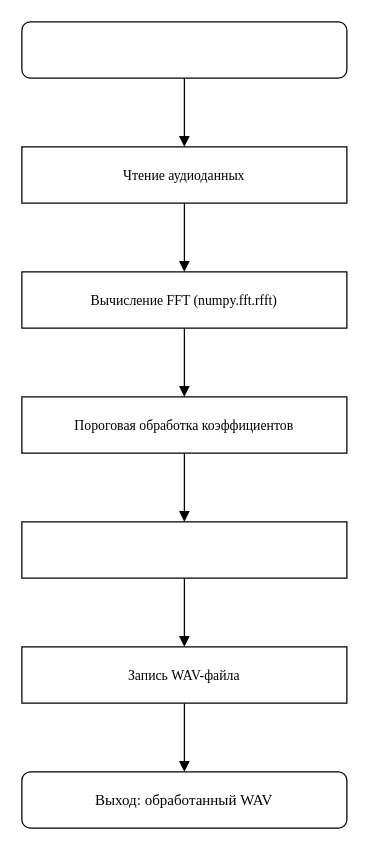
This 369x850 diagram has some shape labels left out. The box of each missing label's shape, as (x1, y1, x2, y2) in pixels:
Вход: WAV-файл: (21, 21, 347, 78)
Обратное FFT (numpy.fft.irfft): (21, 521, 347, 578)
